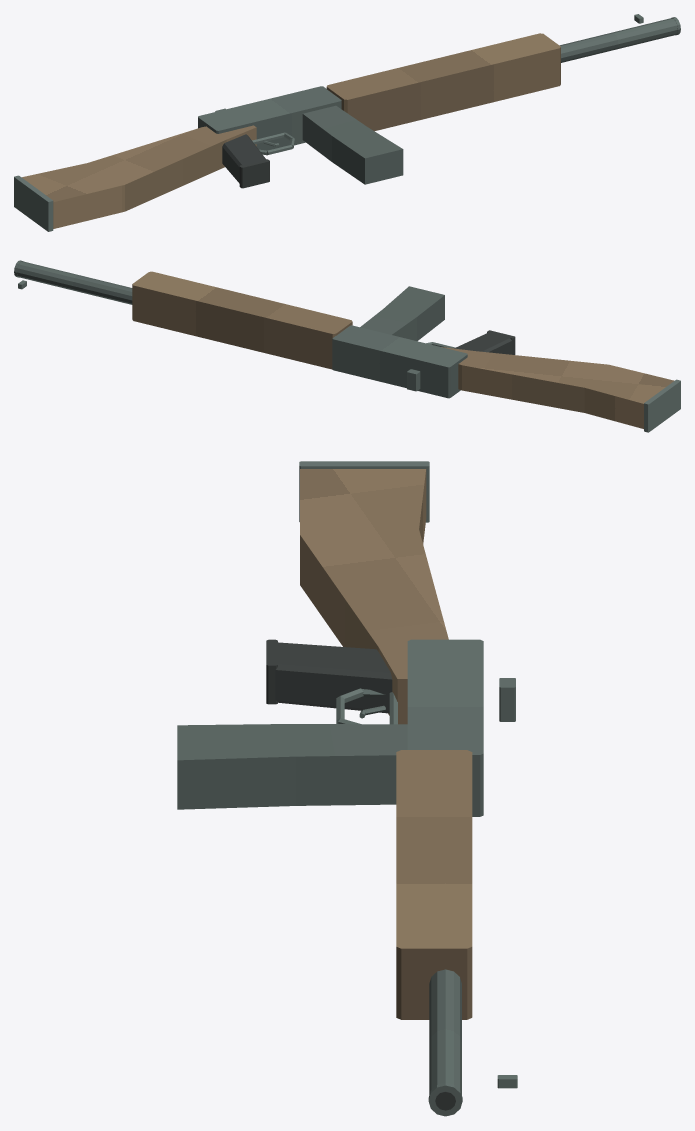
The model's file is weapon-l1a1.glb.
3 views of the same model, one above another, from view 1: azimuth 30°, elevation 25°; view 2: azimuth 150°, elevation 25°; view 3: azimuth 270°, elevation 25° (orthographic). The views are drawn at different scales.
Visible parts, largest first — view 1: weapon-l1a1/independent-forehandguard, weapon-l1a1/shaped-solid-butt, weapon-l1a1/distinct-detachable-magazine, weapon-l1a1/full-depth-receiver, weapon-l1a1/round-barrel, weapon-l1a1/butt-end-plate, weapon-l1a1/distinct-eight-sided-pistol-grip, weapon-l1a1/distinct-eight-sided-pistol-grip-heel; view 2: weapon-l1a1/independent-forehandguard, weapon-l1a1/shaped-solid-butt, weapon-l1a1/full-depth-receiver, weapon-l1a1/distinct-detachable-magazine, weapon-l1a1/round-barrel, weapon-l1a1/butt-end-plate, weapon-l1a1/distinct-eight-sided-pistol-grip, weapon-l1a1/rear-sight; view 3: weapon-l1a1/shaped-solid-butt, weapon-l1a1/independent-forehandguard, weapon-l1a1/distinct-detachable-magazine, weapon-l1a1/full-depth-receiver, weapon-l1a1/distinct-eight-sided-pistol-grip, weapon-l1a1/round-barrel, weapon-l1a1/butt-end-plate.
Part boxes in pixels (bbox=[...]): weapon-l1a1/independent-forehandguard: bbox=[326, 33, 560, 131]; weapon-l1a1/shaped-solid-butt: bbox=[22, 125, 256, 228]; weapon-l1a1/distinct-detachable-magazine: bbox=[302, 105, 403, 184]; weapon-l1a1/full-depth-receiver: bbox=[198, 86, 341, 150]; weapon-l1a1/round-barrel: bbox=[559, 18, 677, 62]; weapon-l1a1/butt-end-plate: bbox=[14, 175, 53, 231]; weapon-l1a1/distinct-eight-sided-pistol-grip: bbox=[222, 134, 265, 183]; weapon-l1a1/distinct-eight-sided-pistol-grip-heel: bbox=[239, 159, 269, 188]; weapon-l1a1/independent-forehandguard: bbox=[132, 271, 352, 369]; weapon-l1a1/shaped-solid-butt: bbox=[441, 347, 674, 428]; weapon-l1a1/full-depth-receiver: bbox=[332, 325, 467, 398]; weapon-l1a1/distinct-detachable-magazine: bbox=[360, 286, 444, 341]; weapon-l1a1/round-barrel: bbox=[17, 261, 132, 304]; weapon-l1a1/butt-end-plate: bbox=[644, 379, 680, 432]; weapon-l1a1/distinct-eight-sided-pistol-grip: bbox=[454, 332, 512, 354]; weapon-l1a1/rear-sight: bbox=[407, 369, 420, 391]; weapon-l1a1/shaped-solid-butt: bbox=[300, 469, 448, 724]; weapon-l1a1/independent-forehandguard: bbox=[396, 750, 472, 1019]; weapon-l1a1/distinct-detachable-magazine: bbox=[177, 724, 407, 809]; weapon-l1a1/full-depth-receiver: bbox=[407, 639, 483, 816]; weapon-l1a1/distinct-eight-sided-pistol-grip: bbox=[272, 642, 392, 713]; weapon-l1a1/round-barrel: bbox=[429, 969, 461, 1094]; weapon-l1a1/butt-end-plate: bbox=[299, 461, 429, 522].
Size of the model in its own units: 1.14 by 0.062 by 0.269.
Materials: 3 (3 with a texture image).
